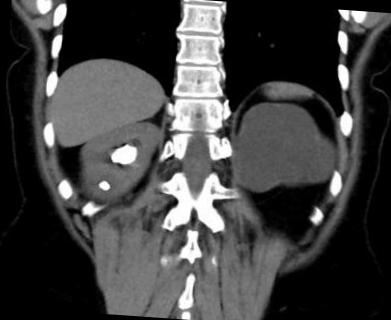Tas_Var: (105, 140, 139, 168), (95, 178, 112, 193)
